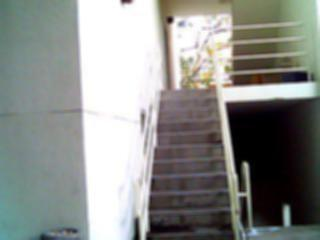Escaleras: (138, 83, 239, 239), (228, 193, 319, 239)
